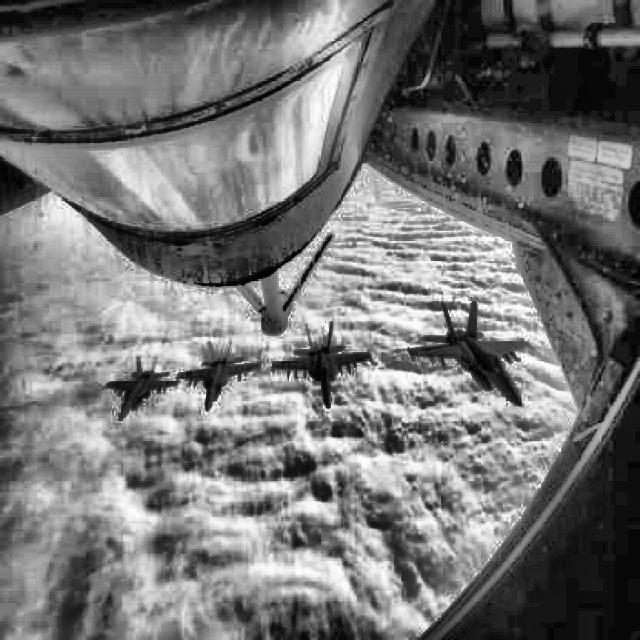F18: (407, 301, 536, 407), (271, 320, 372, 408), (176, 338, 261, 412), (102, 354, 180, 420)
